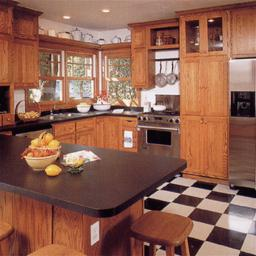Armario: (181, 60, 227, 179)
Electrodomestico: (139, 116, 180, 154)
